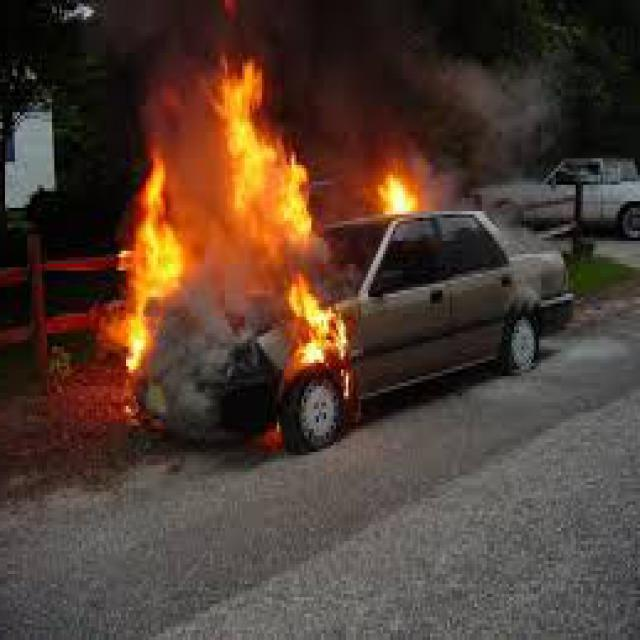Fire: (122, 77, 328, 339)
Smoke: (342, 34, 517, 198)
